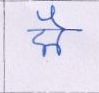ai_matra: (36, 8, 67, 28)
